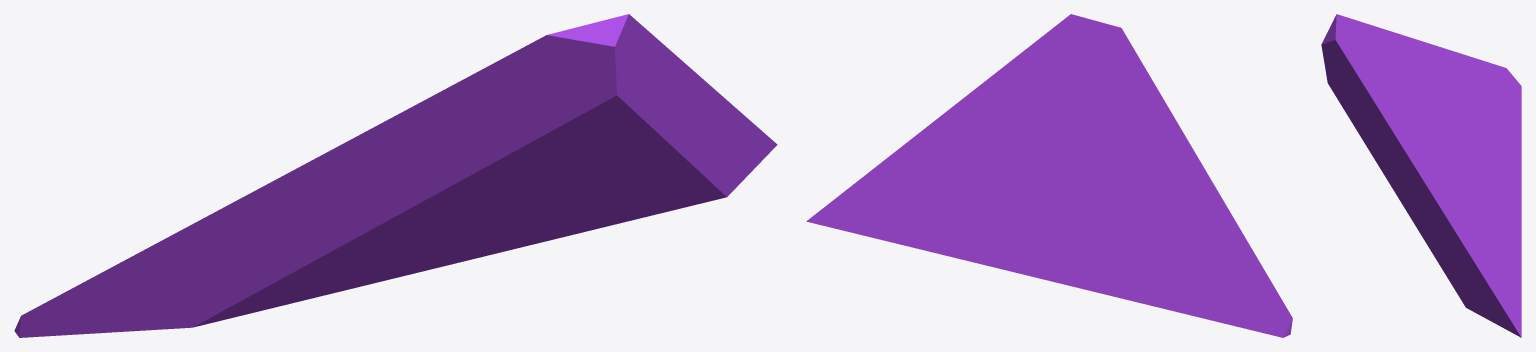
The model's file is Window_126_3_chunks.fbx.
3 views of the same model, side by side, from view 1: azimuth 30°, elevation 25°; view 2: azimuth 150°, elevation 25°; view 3: azimuth 270°, elevation 25° (orthographic). The views are drawn at different scales.
Visible parts, largest first — view 1: Window_126_3_0, Window_126_3_8, Window_126_3_3, Window_126_3_4, Window_126_3_7, Window_126_3_2, Window_126_3_6; view 2: Window_126_3_8, Window_126_3_0, Window_126_3_9, Window_126_3_5, Window_126_3_2, Window_126_3_1, Window_126_3_4, Window_126_3_3, Window_126_3_6; view 3: Window_126_3_8, Window_126_3_0, Window_126_3_9, Window_126_3_5, Window_126_3_2, Window_126_3_1, Window_126_3_4, Window_126_3_3, Window_126_3_6.
Part boxes in pixels (left/top/right/bottom): Window_126_3_0: left=310, top=14, right=656, bottom=223; Window_126_3_8: left=574, top=41, right=777, bottom=212; Window_126_3_3: left=14, top=245, right=302, bottom=337; Window_126_3_4: left=288, top=175, right=421, bottom=290; Window_126_3_7: left=390, top=179, right=664, bottom=279; Window_126_3_2: left=111, top=161, right=326, bottom=267; Window_126_3_6: left=398, top=124, right=620, bottom=265; Window_126_3_8: left=806, top=58, right=1039, bottom=240; Window_126_3_0: left=1023, top=14, right=1198, bottom=170; Window_126_3_9: left=885, top=165, right=1090, bottom=284; Window_126_3_5: left=1065, top=237, right=1217, bottom=321; Window_126_3_2: left=1159, top=158, right=1263, bottom=271; Window_126_3_1: left=1015, top=52, right=1139, bottom=202; Window_126_3_4: left=1078, top=162, right=1180, bottom=251; Window_126_3_3: left=1197, top=268, right=1292, bottom=337; Window_126_3_6: left=1025, top=100, right=1098, bottom=221; Window_126_3_8: left=1354, top=101, right=1521, bottom=337; Window_126_3_0: left=1321, top=14, right=1430, bottom=126; Window_126_3_9: left=1446, top=147, right=1521, bottom=295; Window_126_3_5: left=1473, top=105, right=1521, bottom=200; Window_126_3_2: left=1413, top=38, right=1490, bottom=110; Window_126_3_1: left=1369, top=85, right=1459, bottom=131; Window_126_3_4: left=1419, top=53, right=1496, bottom=172; Window_126_3_3: left=1477, top=59, right=1521, bottom=119; Window_126_3_6: left=1400, top=111, right=1473, bottom=157.
Bounding box in the file's own units: 1087 × 408 × 363.
